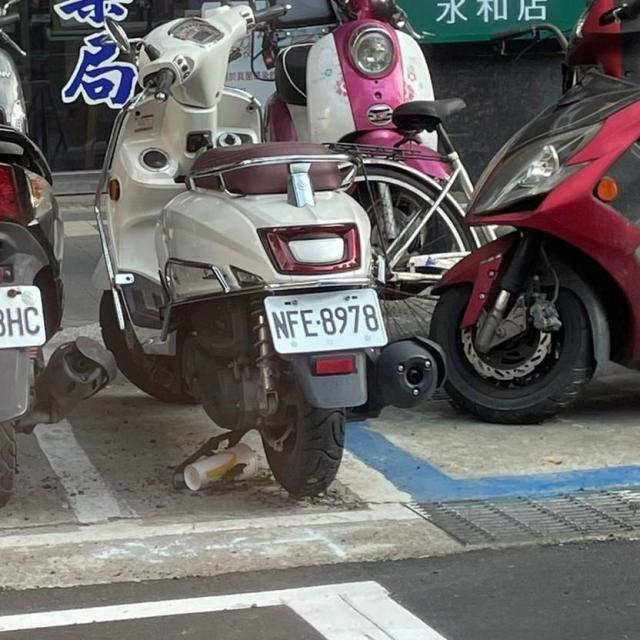W: (251, 279, 397, 359), (0, 278, 51, 358)
